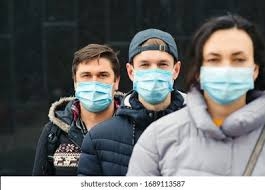with_mask: (201, 32, 260, 104), (126, 48, 181, 104), (74, 57, 121, 109)
